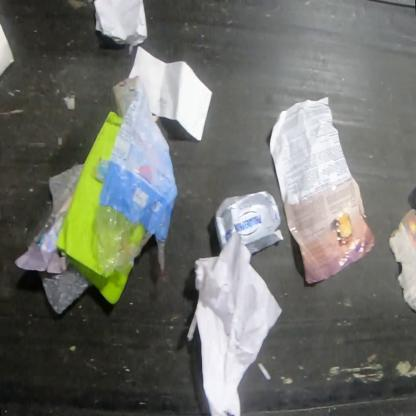cardboard: (212, 190, 284, 256)
soft_plastic: (89, 75, 179, 279), (13, 162, 92, 315)
